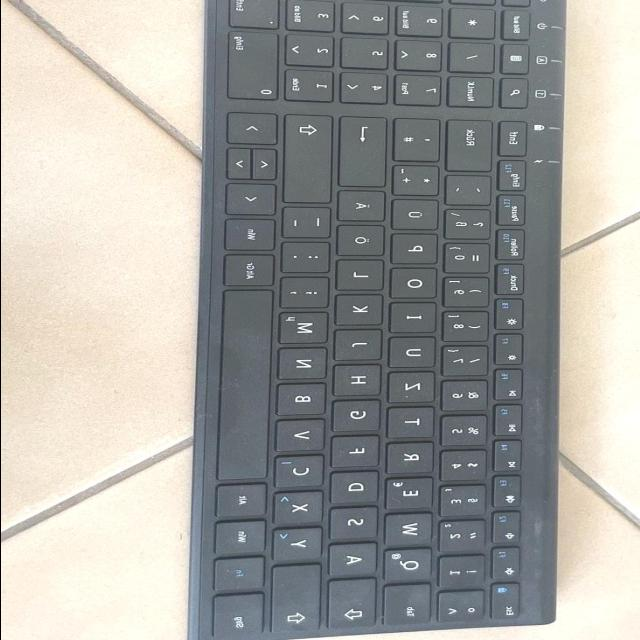0: (447, 245, 495, 276)
1: (442, 558, 490, 591)
2: (442, 522, 491, 555)
3: (442, 486, 492, 519)
4: (444, 452, 493, 484)
5: (444, 417, 493, 449)
6: (444, 382, 492, 414)
7: (444, 347, 493, 379)
8: (444, 313, 493, 345)
9: (445, 279, 494, 311)
a: (331, 545, 383, 579)
accent: (449, 178, 497, 209)
ae: (339, 193, 391, 225)
alt-left: (213, 483, 268, 519)
altgr-right: (220, 254, 274, 287)
b: (279, 385, 331, 419)
c: (277, 457, 329, 491)
caret: (441, 594, 489, 626)
comma: (283, 279, 335, 312)
d: (332, 473, 384, 507)
del: (449, 121, 499, 174)
e: (389, 480, 439, 513)
enter: (341, 119, 393, 190)
f: (334, 438, 386, 470)
g: (335, 402, 385, 435)
h: (336, 366, 386, 399)
hash: (396, 121, 445, 165)
i: (393, 304, 442, 336)
j: (337, 331, 389, 363)
k: (338, 297, 390, 329)
keyboard: (188, 0, 574, 640)
l: (339, 262, 389, 294)
m: (282, 313, 334, 347)
minus: (286, 209, 336, 241)
n: (280, 349, 332, 383)
o: (393, 270, 442, 302)
oe: (339, 227, 389, 259)
p: (394, 236, 444, 268)
plus: (395, 167, 445, 199)
point: (285, 244, 335, 276)
q: (386, 550, 438, 586)
r: (390, 444, 440, 477)
s: (333, 509, 383, 543)
shift-left: (274, 566, 328, 636)
shift-lock: (331, 582, 383, 632)
shift-right: (286, 116, 338, 207)
space: (217, 289, 274, 482)
ss: (448, 211, 496, 243)
strg-left: (214, 592, 268, 640)
t: (391, 409, 441, 441)
tab: (387, 587, 437, 629)
u: (391, 339, 441, 371)
ue: (394, 202, 444, 234)
v: (279, 421, 331, 455)
w: (386, 515, 438, 548)
x: (278, 494, 328, 528)
y: (276, 529, 328, 565)
z: (391, 373, 441, 406)
